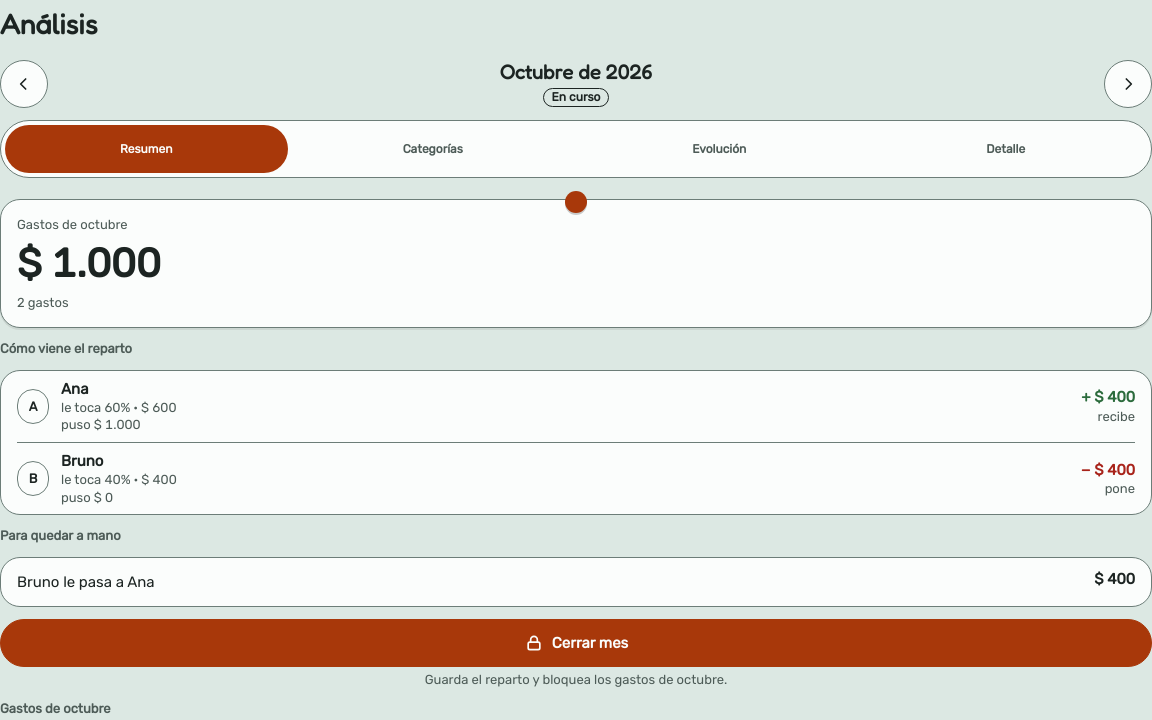
Test: si alguien cambió algo mientras tanto (CIERRE_DESACTUALIZADO), lo avisa y muestra el reparto nuevo
Expected: the tab "Resumen" is shown, [5,125,288,173]
Click the button "Cerrar mes" at (576, 643), box [0,619,1151,667]
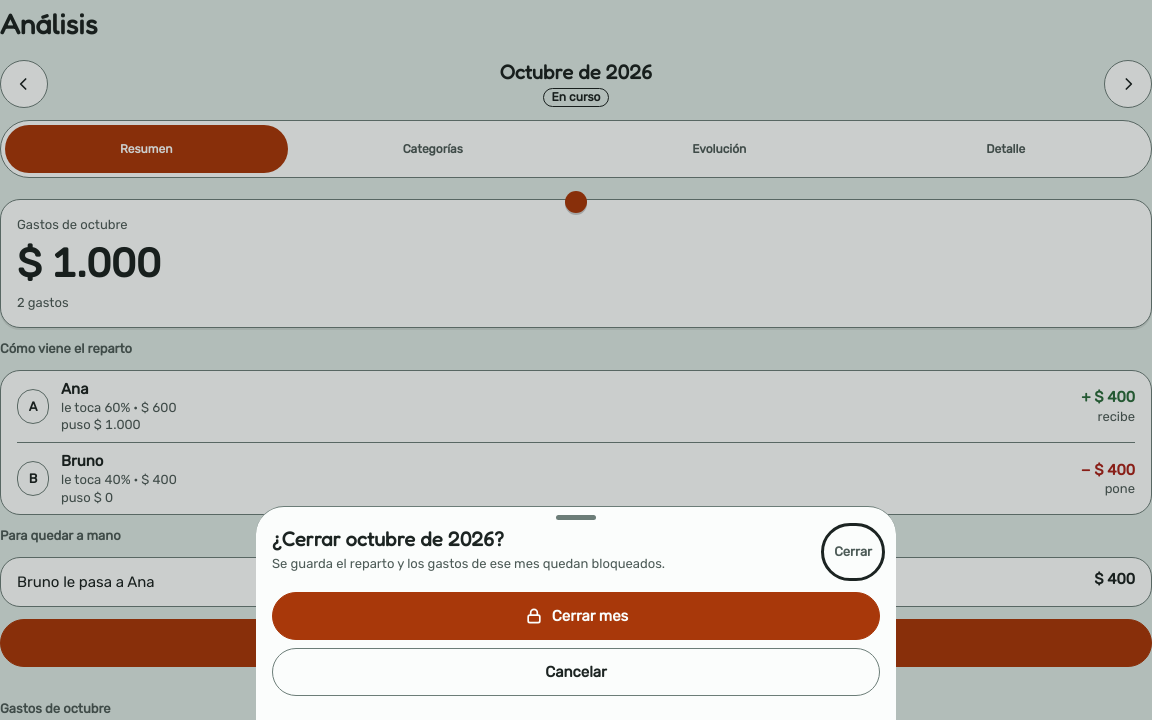
Click the button "Cerrar mes" at (576, 616), box [272,592,880,640]
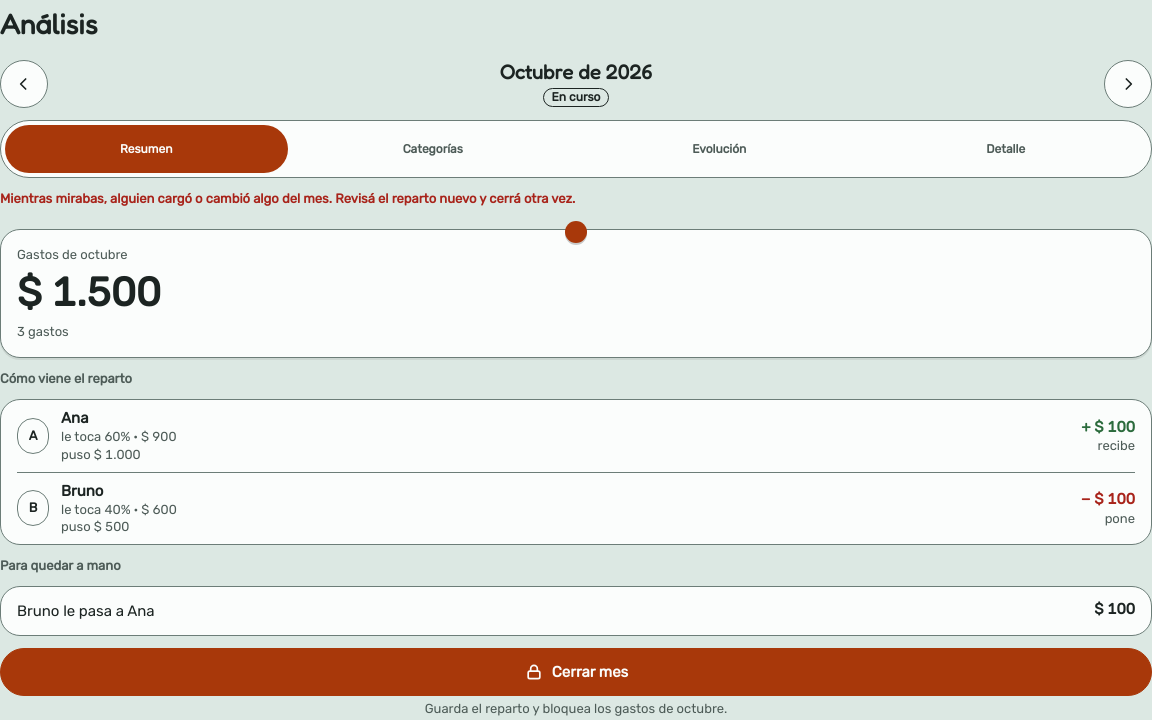
Result: the text "Mientras mirabas, alguien cargó o cambió algo del mes. Revisá el reparto nuevo y cerrá otra vez." is shown at [0,191,575,206]
Result: the dialog is gone
